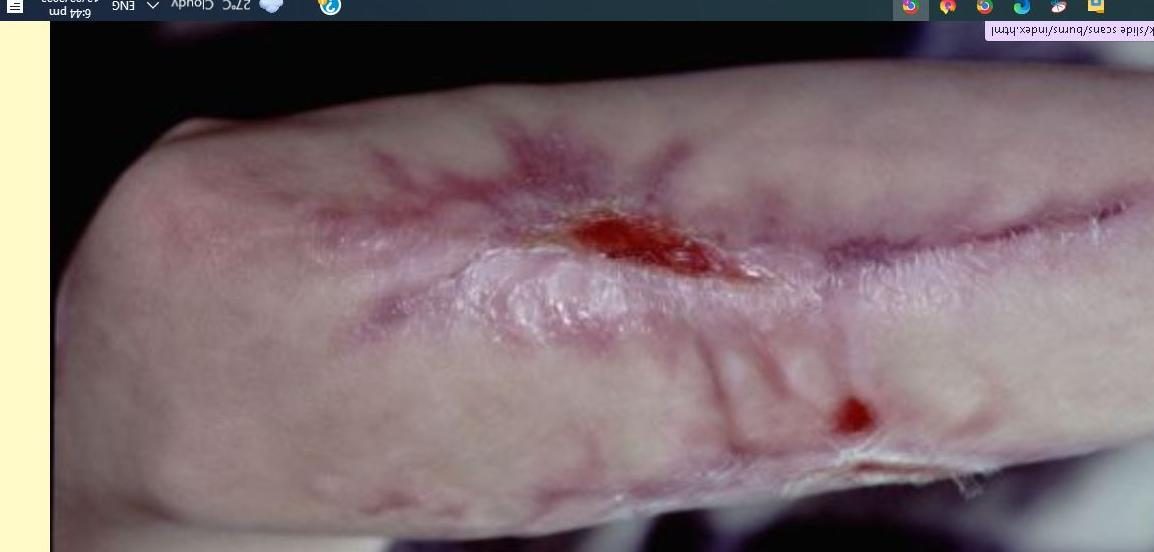NonPU: (193, 130, 1154, 433)
